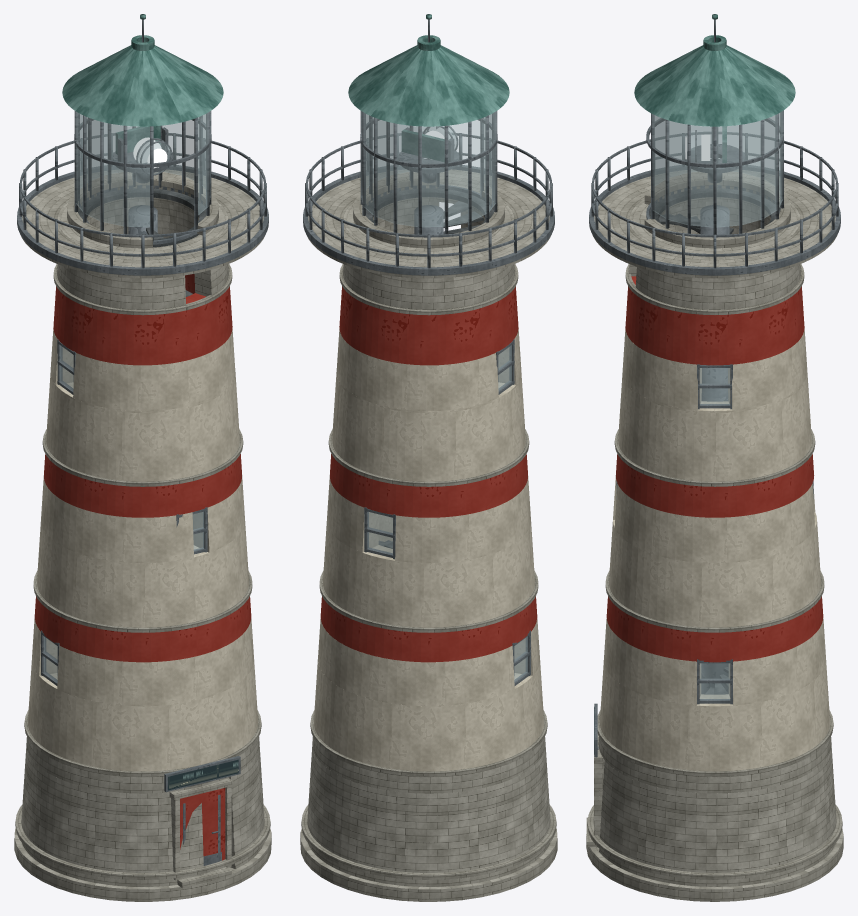
Rendered from PZ_Lighthouse_Standalone.glb.
3 renders of one model, left to right at view 1: azimuth 30°, elevation 25°; view 2: azimuth 150°, elevation 25°; view 3: azimuth 270°, elevation 25°, orthographic.
Parts seen in each view (by area): view 1: TOWER_Ground_EntryDoorCutout_00, TOWER_OffWhite01_00, TOWER_OffWhite02_00, TOWER_OffWhite03_00, LANTERN_CopperCanopy, TOWER_StripeC_00, GALLERY_ExternalWalkway, TOWER_Windows_B_ActualVoids_01, TOWER_UpperGalleryDoorCutout_00, TOWER_StripeA_00, TOWER_Windows_A_ActualVoids_02, TOWER_StripeB_00 (+37 smaller); view 2: TOWER_Ground_EntryDoorCutout_00, TOWER_OffWhite01_00, TOWER_OffWhite02_00, TOWER_OffWhite03_00, LANTERN_CopperCanopy, TOWER_StripeC_00, TOWER_Windows_A_ActualVoids_01, TOWER_Windows_C_ActualVoids_01, GALLERY_ExternalWalkway, TOWER_StripeA_00, TOWER_Windows_B_ActualVoids_01, TOWER_StripeB_00 (+31 smaller); view 3: TOWER_Ground_EntryDoorCutout_00, TOWER_OffWhite01_00, TOWER_OffWhite03_00, TOWER_OffWhite02_00, LANTERN_CopperCanopy, TOWER_Windows_B_ActualVoids_00, TOWER_StripeC_00, GALLERY_ExternalWalkway, TOWER_StripeA_00, TOWER_UpperGalleryDoorCutout_00, TOWER_StripeB_00, FOUNDATION_StoneRing (+34 smaller).
Boxes of the visible parts, x1,y1,x2,y2 form: TOWER_Ground_EntryDoorCutout_00: (21, 745, 264, 886); TOWER_OffWhite01_00: (28, 659, 258, 771); TOWER_OffWhite02_00: (37, 521, 248, 627); TOWER_OffWhite03_00: (46, 372, 239, 481); LANTERN_CopperCanopy: (62, 45, 223, 126); TOWER_StripeC_00: (53, 274, 232, 365); GALLERY_ExternalWalkway: (21, 169, 265, 278); TOWER_Windows_B_ActualVoids_01: (41, 475, 193, 563); TOWER_UpperGalleryDoorCutout_00: (57, 201, 228, 309); TOWER_StripeA_00: (34, 596, 251, 662); TOWER_Windows_A_ActualVoids_02: (57, 645, 198, 706); TOWER_StripeB_00: (44, 454, 241, 517); TOWER_Ground_EntryDoorCutout_00: (307, 742, 550, 886); TOWER_OffWhite01_00: (313, 659, 543, 771); TOWER_OffWhite02_00: (323, 515, 534, 627); TOWER_OffWhite03_00: (332, 372, 525, 481); LANTERN_CopperCanopy: (348, 45, 509, 126); TOWER_StripeC_00: (339, 286, 518, 365); TOWER_Windows_A_ActualVoids_01: (318, 619, 514, 706); TOWER_Windows_C_ActualVoids_01: (336, 327, 498, 411); GALLERY_ExternalWalkway: (306, 169, 550, 278); TOWER_StripeA_00: (320, 596, 537, 662); TOWER_Windows_B_ActualVoids_01: (395, 476, 530, 563); TOWER_StripeB_00: (330, 454, 527, 517); TOWER_Ground_EntryDoorCutout_00: (593, 745, 836, 886); TOWER_OffWhite01_00: (599, 660, 830, 771); TOWER_OffWhite03_00: (618, 373, 811, 481); TOWER_OffWhite02_00: (609, 512, 820, 627); LANTERN_CopperCanopy: (634, 45, 795, 126); TOWER_Windows_B_ActualVoids_00: (614, 484, 815, 562); TOWER_StripeC_00: (625, 276, 804, 365); GALLERY_ExternalWalkway: (592, 169, 837, 278); TOWER_StripeA_00: (606, 596, 823, 662); TOWER_UpperGalleryDoorCutout_00: (629, 201, 800, 309); TOWER_StripeB_00: (615, 454, 814, 517); FOUNDATION_StoneRing: (586, 828, 843, 901).
Bounding box in the file's own units: 6.7 × 23.91 × 6.7.
9 materials, 7 textured.
